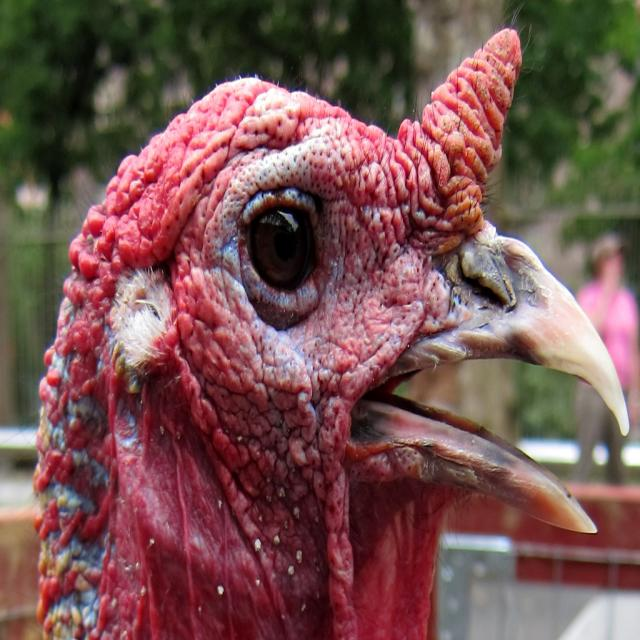Chicken: (37, 20, 623, 640)
